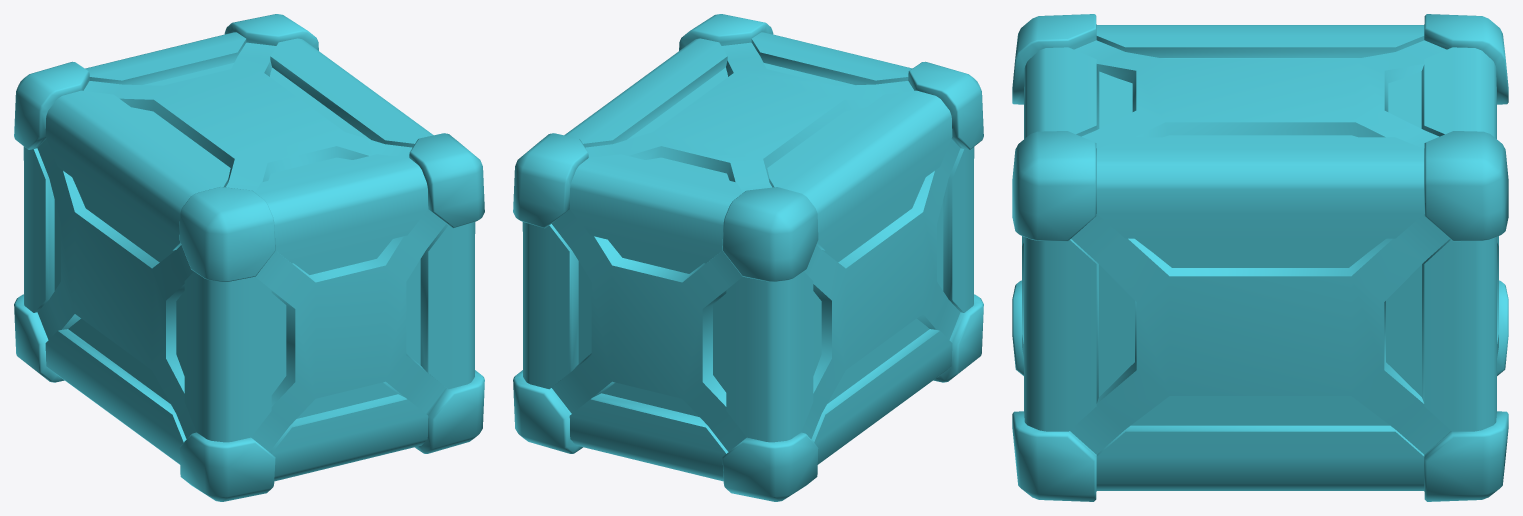
The model's file is CaisseBasique.fbx.
3 views of the same model, side by side, from view 1: azimuth 30°, elevation 25°; view 2: azimuth 150°, elevation 25°; view 3: azimuth 270°, elevation 25° (orthographic). The views are drawn at different scales.
Parts seen in each view (by area): view 1: 1Caisse.Low, 1CaisseInt.Low; view 2: 1Caisse.Low, 1CaisseInt.Low; view 3: 1Caisse.Low, 1CaisseInt.Low.
Boxes of the visible parts, <box> form: 1Caisse.Low: <box>14,14,484,501</box>; 1CaisseInt.Low: <box>54,63,420,418</box>; 1Caisse.Low: <box>513,14,983,501</box>; 1CaisseInt.Low: <box>578,63,943,416</box>; 1Caisse.Low: <box>1012,14,1508,501</box>; 1CaisseInt.Low: <box>1099,58,1421,425</box>.
Bounding box in the file's own units: 100 × 130 × 100.
